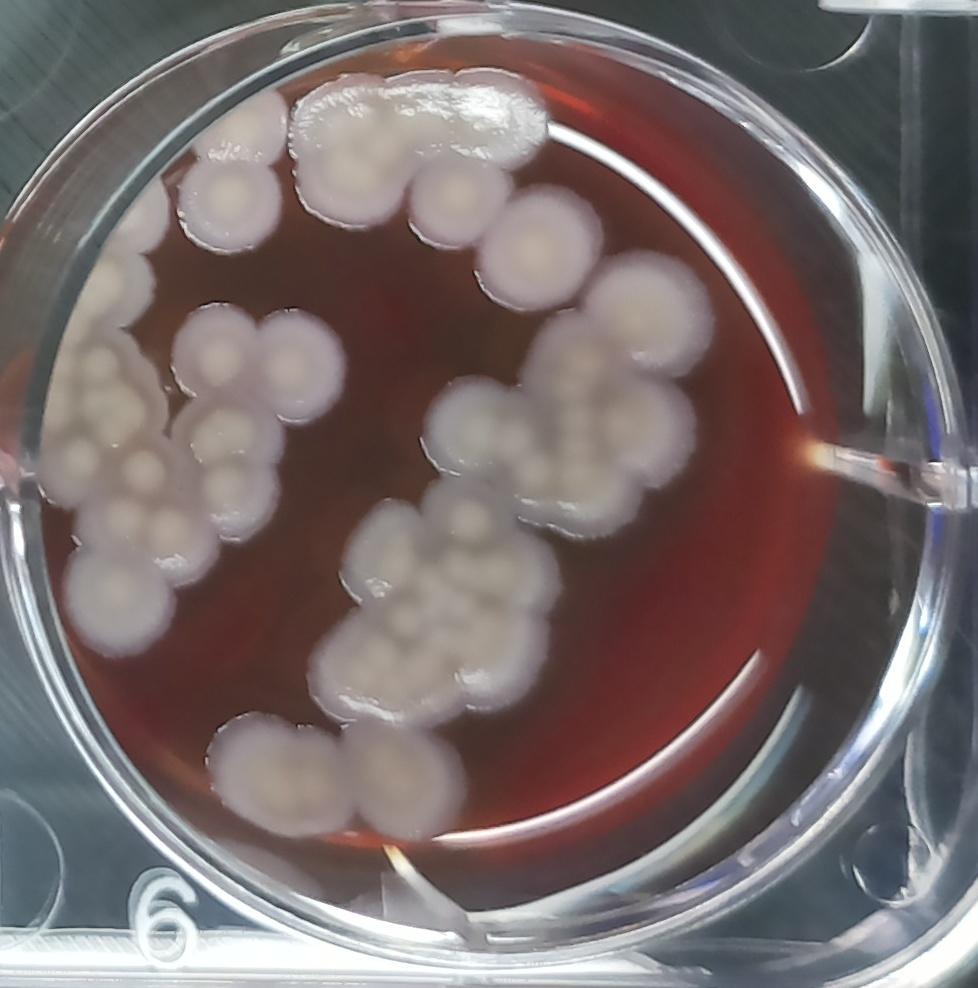bcereus: (163, 285, 352, 432), (192, 695, 351, 845), (471, 179, 605, 320)
